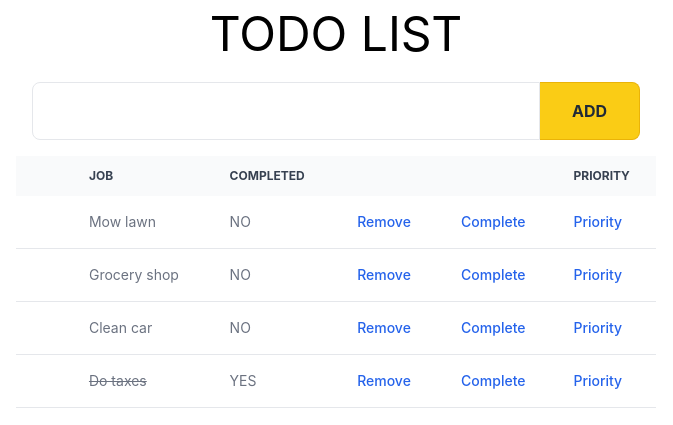
My Add Todo Test › should see a message saying "add an item to do" if there are no todo list items
Click the link with id "remove-0" at (384, 222), box x1=357 y1=213 x2=411 y2=230
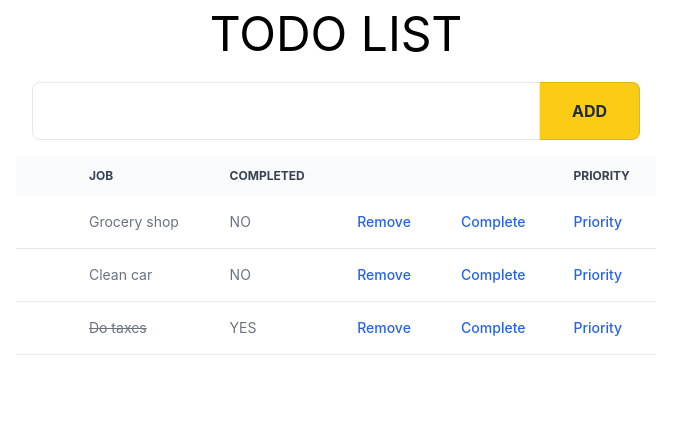
Click the link with id "remove-0" at (384, 222), box x1=357 y1=213 x2=411 y2=230
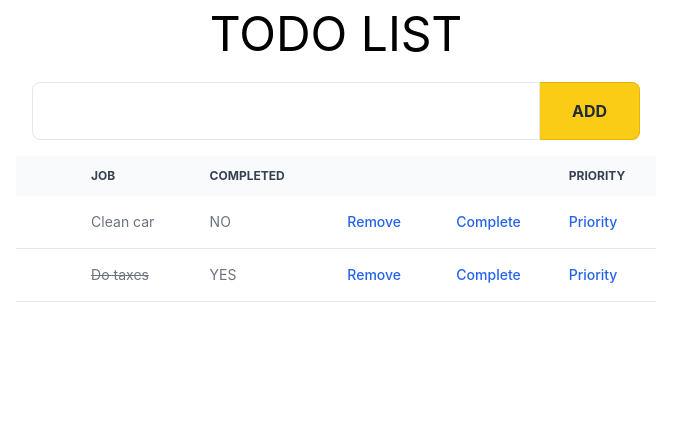
Click the link with id "remove-0" at (374, 222), box x1=347 y1=213 x2=401 y2=230
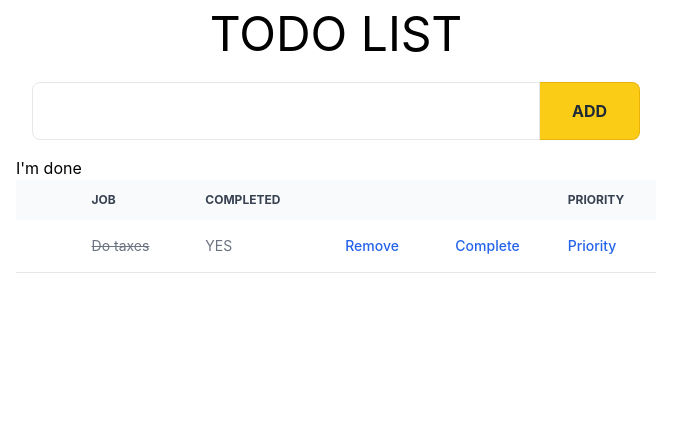
Click the link with id "remove-0" at (372, 246), box x1=345 y1=237 x2=399 y2=254
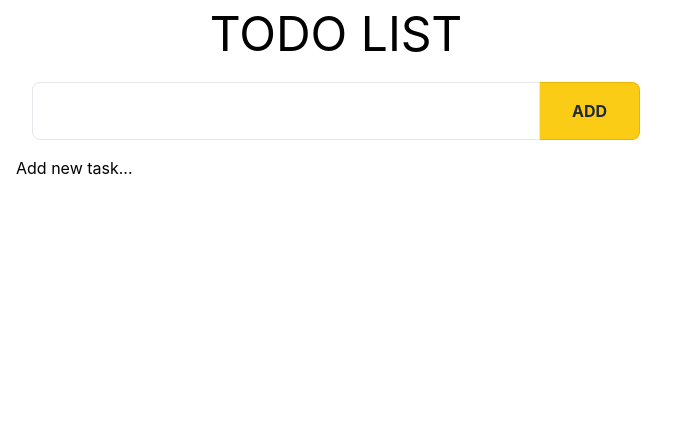
Result: the text "Add new task..." is shown at x1=16 y1=158 x2=133 y2=178
